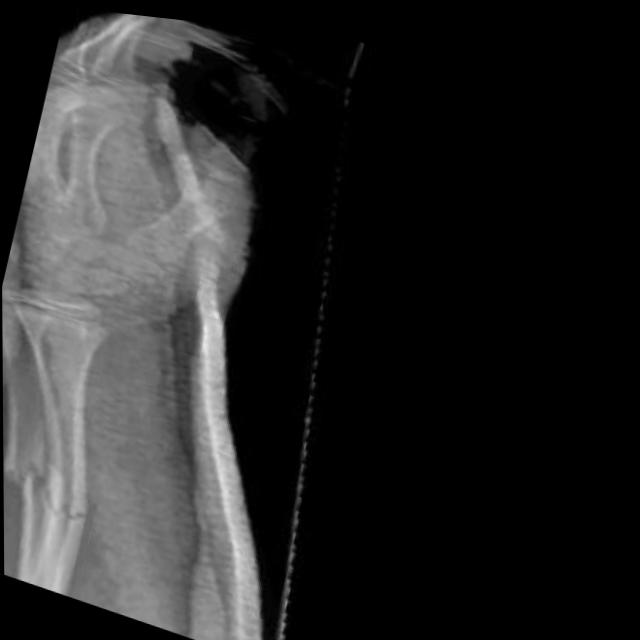fracture: (28, 481, 112, 539)
